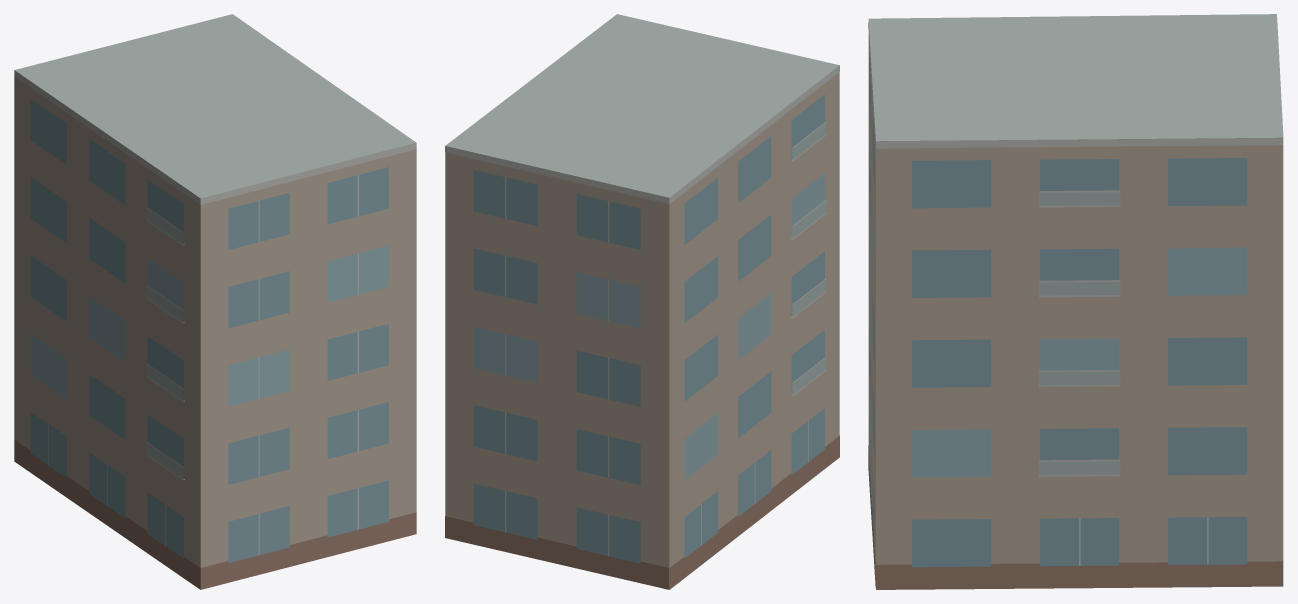
The model's file is survey-upis-32528210.glb.
3 renders of one model, left to right at view 1: azimuth 30°, elevation 25°; view 2: azimuth 150°, elevation 25°; view 3: azimuth 270°, elevation 25°, orthographic. The views are drawn at different scales.
Parts seen in each view (by area): view 1: survey-upis-32528210.tmp; view 2: survey-upis-32528210.tmp; view 3: survey-upis-32528210.tmp.
Part boxes in pixels (x1,y1,x2,y2): survey-upis-32528210.tmp: (14,14,416,589); survey-upis-32528210.tmp: (445,14,839,589); survey-upis-32528210.tmp: (868,14,1283,589).
Bounding box in the file's own units: 9 × 14.8 × 12.42.
